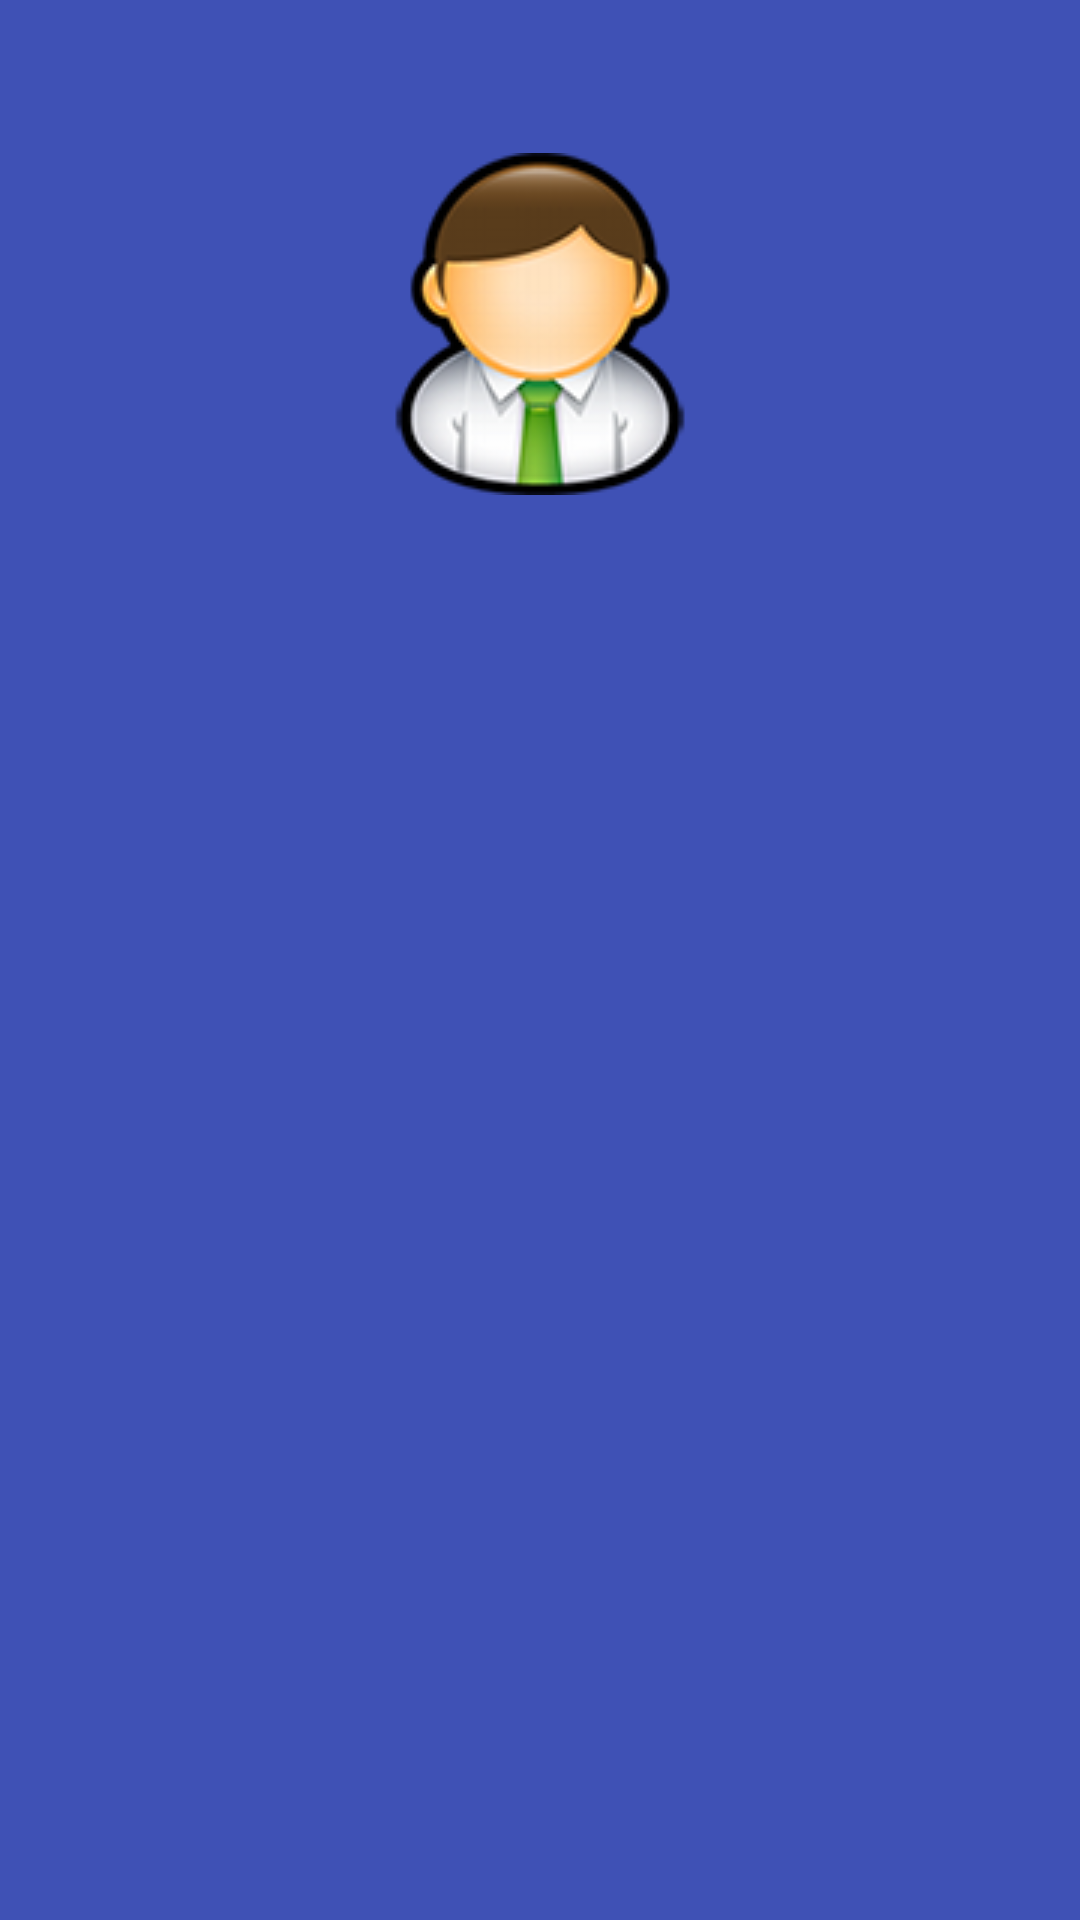

Locate icon controls on the screen. Image size 1080 x 1920, boxes as detection(x1, y1, x2, y2).
admin: detection(395, 153, 685, 495)
